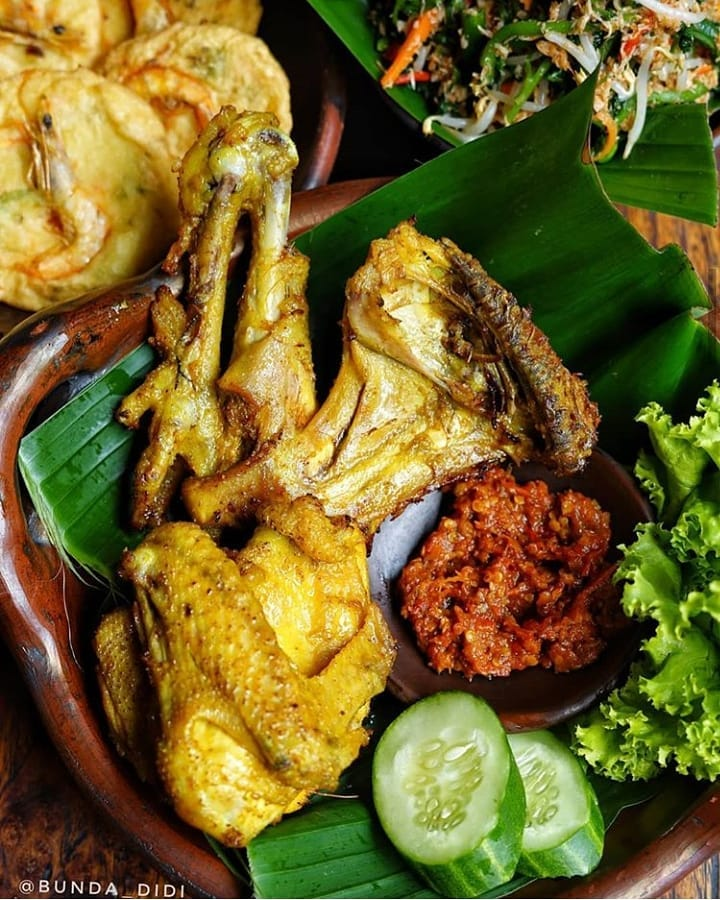Ayam: (226, 234, 590, 522), (86, 526, 376, 848)
